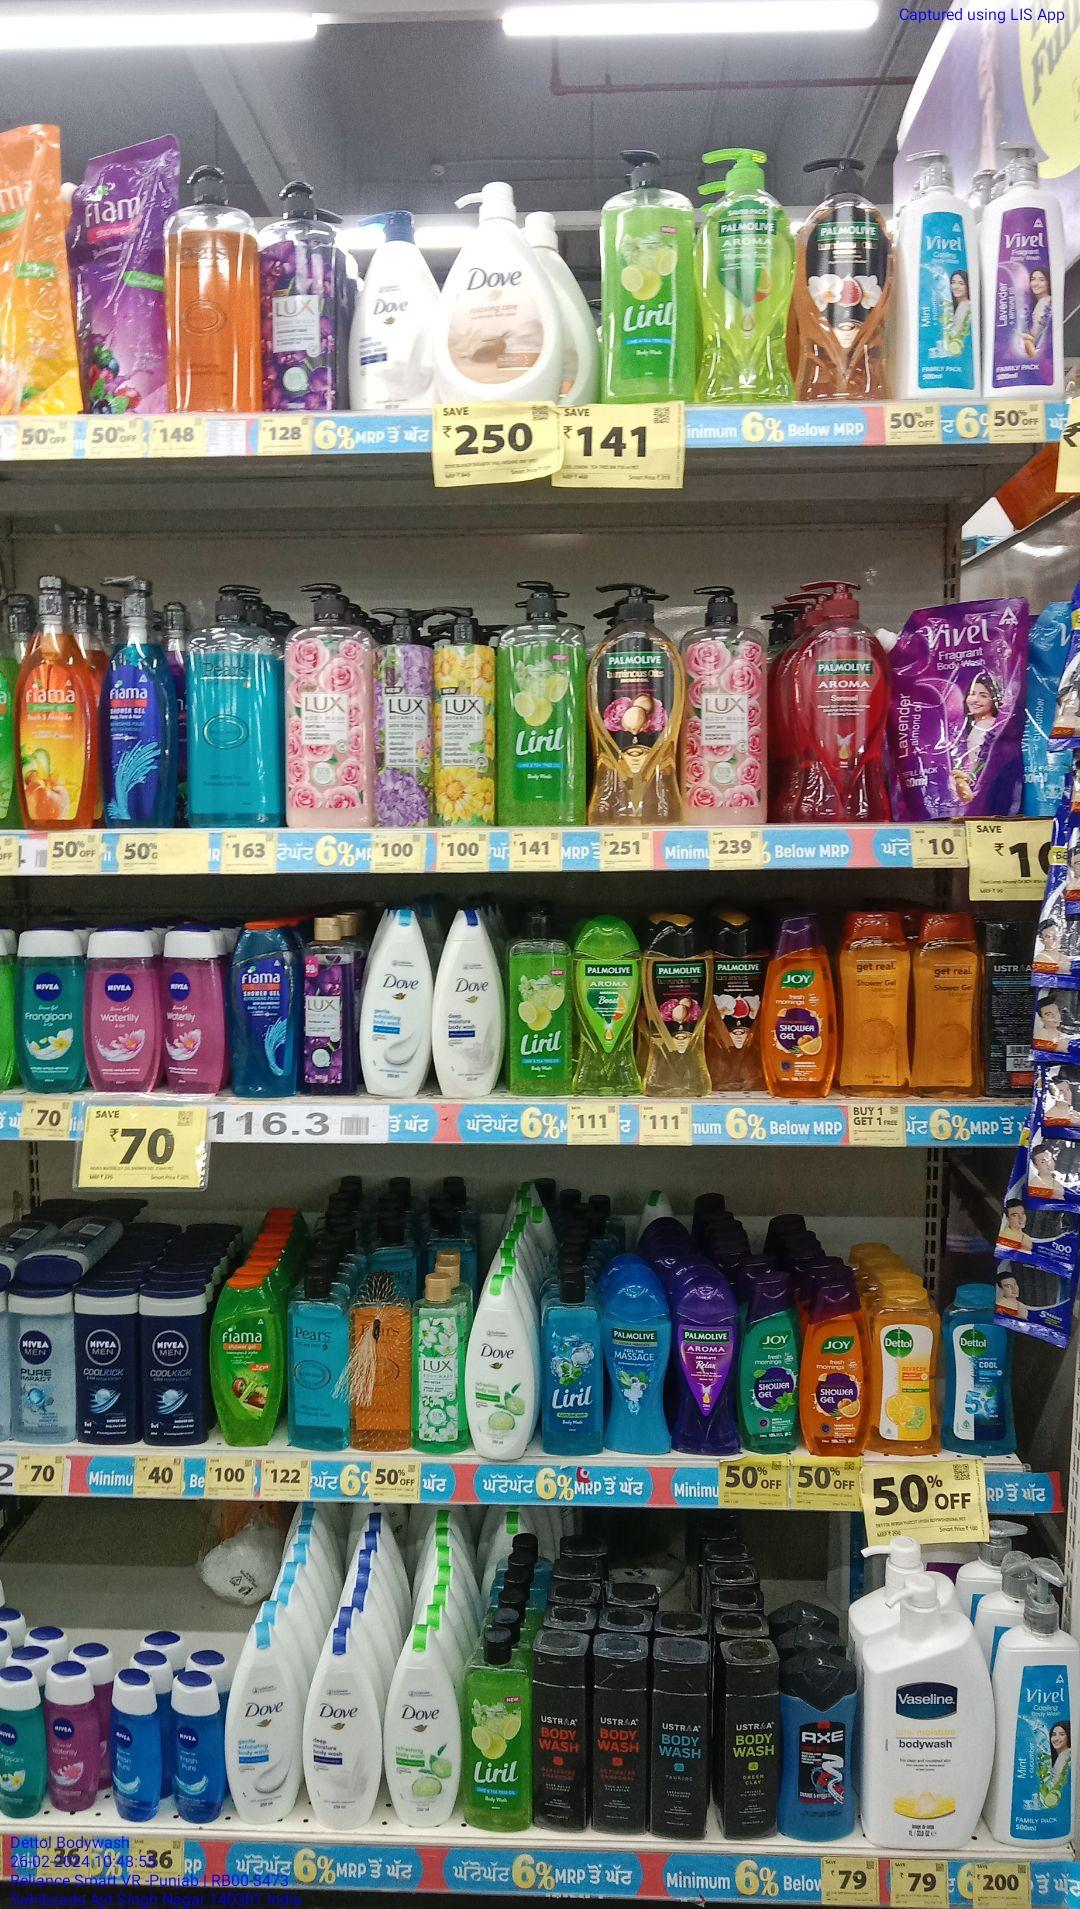Dettol_Bodywash_Cool: (946, 1285, 1016, 1457)
Dettol_Bodywash_Refresh: (389, 1636, 455, 1825), (874, 1281, 940, 1454)
Dove_Deep_Moisture_Body_Wash_250ML: (308, 1628, 379, 1829)
Dove_Gentle_Exfoliating_Body_Wash_250ML: (223, 1627, 299, 1824)
Dove_Refreshing_Body_Wash_250ML: (467, 1273, 536, 1463)
Get_Real_Shower_Gel_Moisturising_Glycerin_300ML: (915, 910, 983, 1093), (841, 910, 908, 1095)
Joy_Shower_Gel_Mandarin_and_Lemongrass_250ML: (769, 918, 834, 1096), (803, 1284, 865, 1455)
Joy_Shower_Gel_Mint_and_Eucalyptus_250ML: (742, 1280, 794, 1454)
Liril_Cooling_Mint_Body_Wash_250ML: (548, 1277, 604, 1454)
Liril_Lime_and_Tea_Tree_Oil_Body_Wash_250ML: (464, 1630, 531, 1830), (507, 910, 571, 1092)
Lux_Black_Orchid_Scent_and_Juniper_Oil_Body_Wash_245ML: (303, 915, 359, 1095)
Lux_Body_Wash_Skin_Detox_Freesia_Scent_and_Alove_Vera_245ML: (410, 1276, 464, 1454)
Nivea_Shower_Gel_Frangipani_and_Oil_250ML: (22, 934, 87, 1086), (0, 1673, 42, 1817)
Nivea_Shower_Gel_Waterlily_and_Oil_250ML: (89, 931, 157, 1093), (163, 928, 227, 1096), (48, 1668, 96, 1813)
Palmolive_Aroma_Moments_Feel_The_Massage_Shower_Gel_250ML: (613, 1274, 674, 1454)
Palmolive_Aroma_Morning_Tonic_Shower_Gel_250ML: (575, 913, 637, 1093)
Palmolive_Aroma_Relax_250ML: (679, 1277, 739, 1453)
Palmolive_Luminous_Oils_Invigorating_Macadamia_Oil_With_Peony_250ML: (649, 915, 709, 1095)
Palmolive_Luminous_Oils_With_White_Orchid_Shower_Gel_250ML: (714, 911, 762, 1090)
Pears_Pure_Glycerin_and_Mint_Extracts_Body_Wash_250ML: (286, 1272, 349, 1449)
